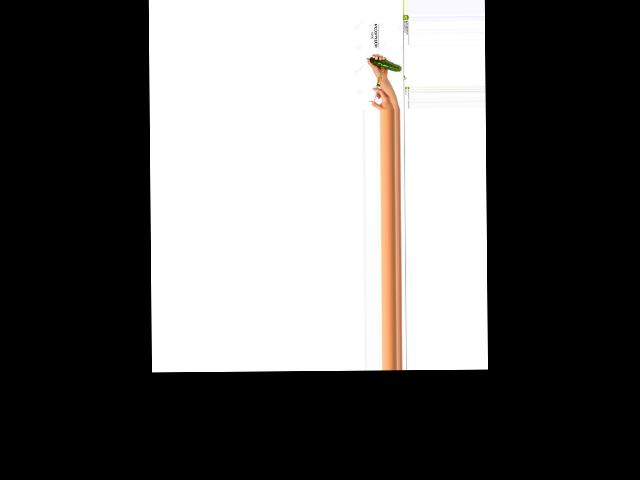cucumber: (369, 57, 401, 72)
